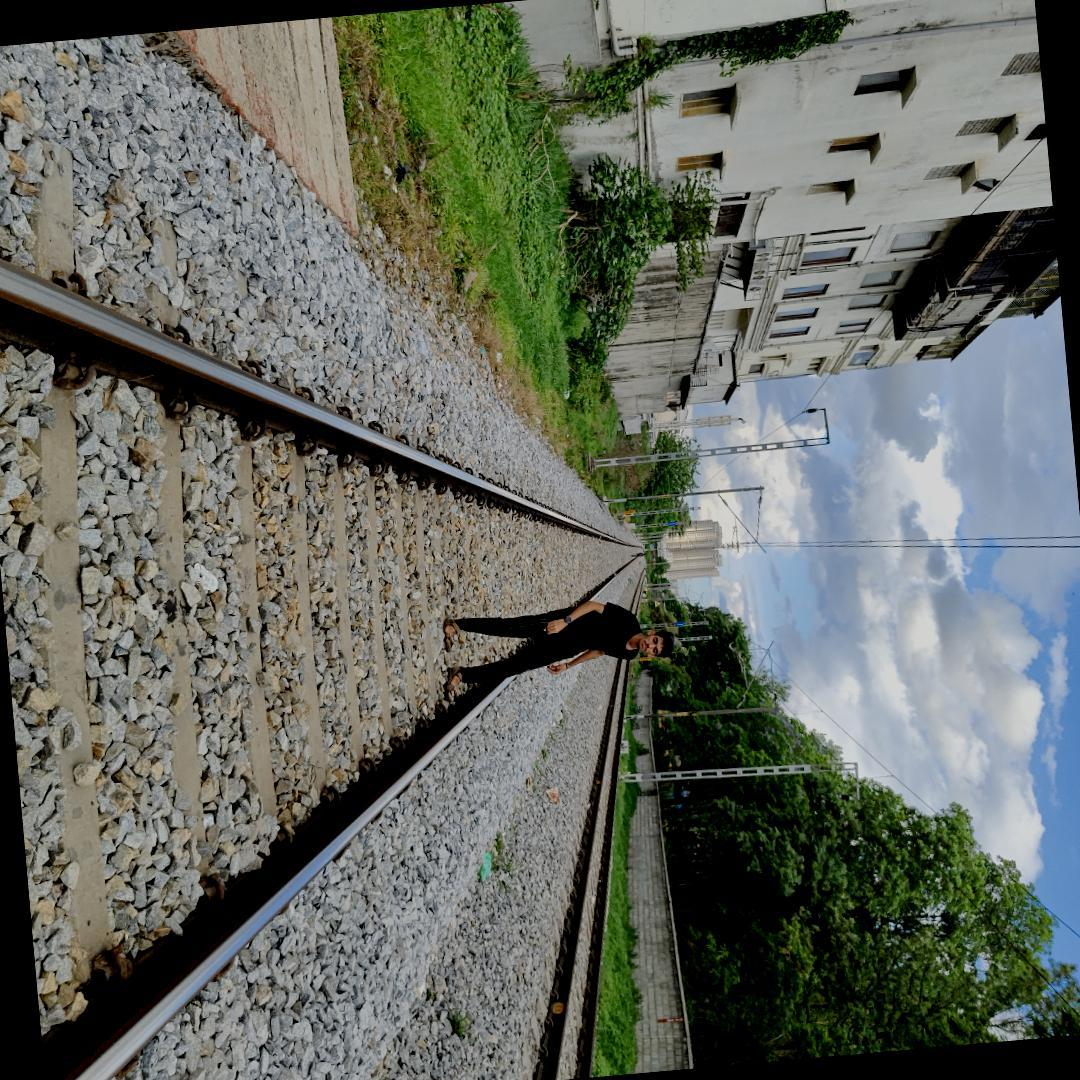standing: (415, 581, 685, 702)
